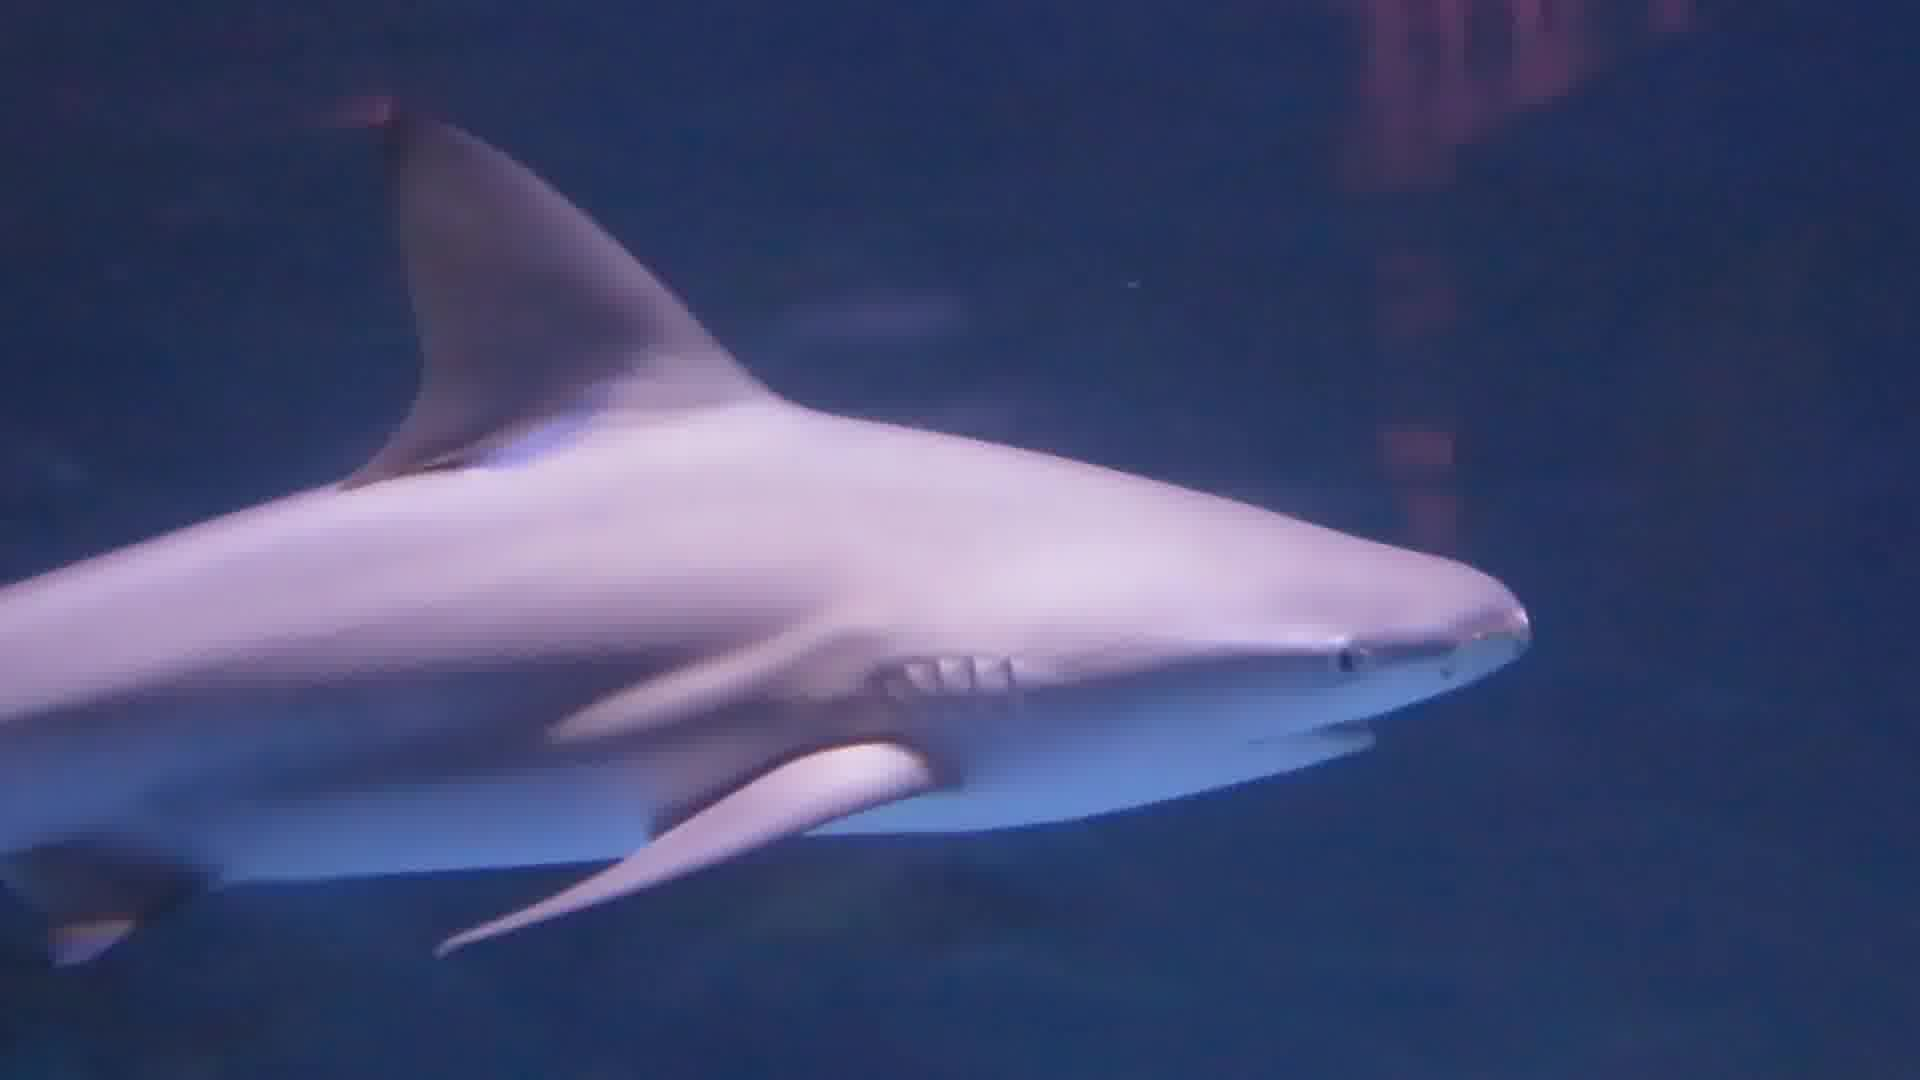Carcharhinus leucas: (13, 136, 1536, 1009)
